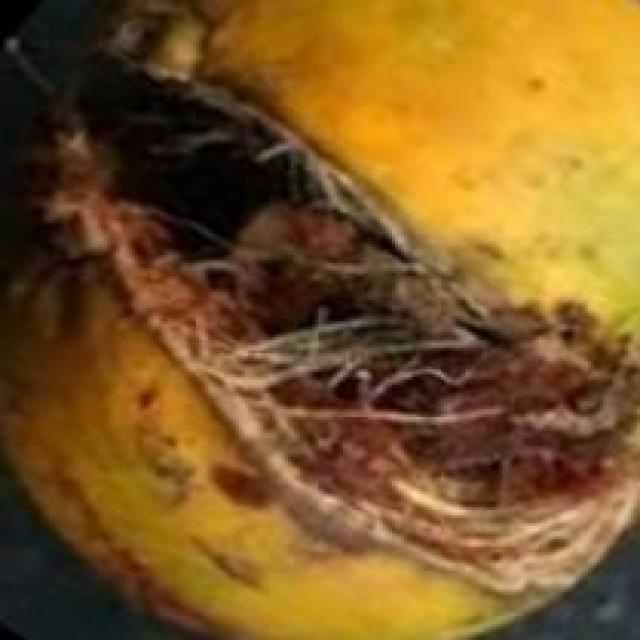damaged: (0, 0, 637, 637)
